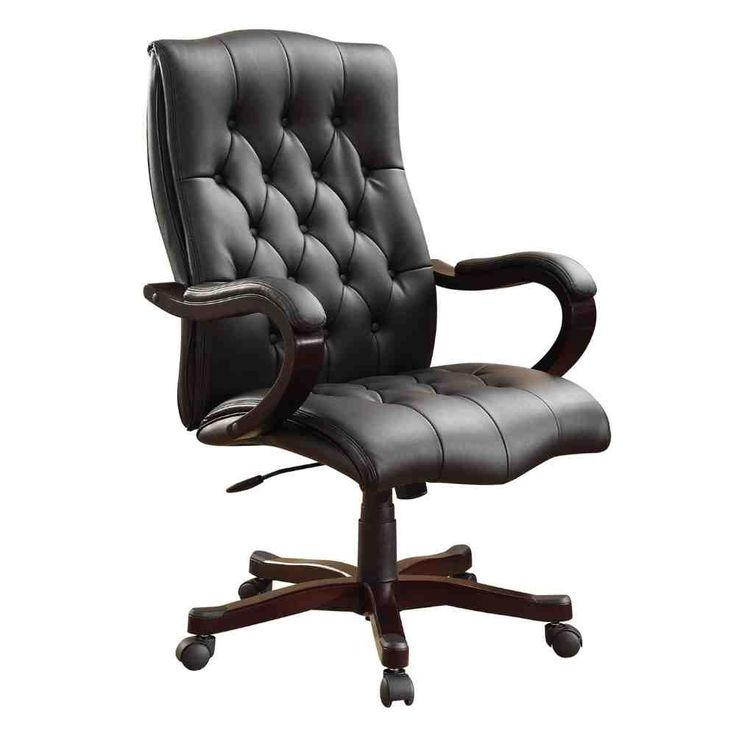chairs: (136, 26, 616, 708)
